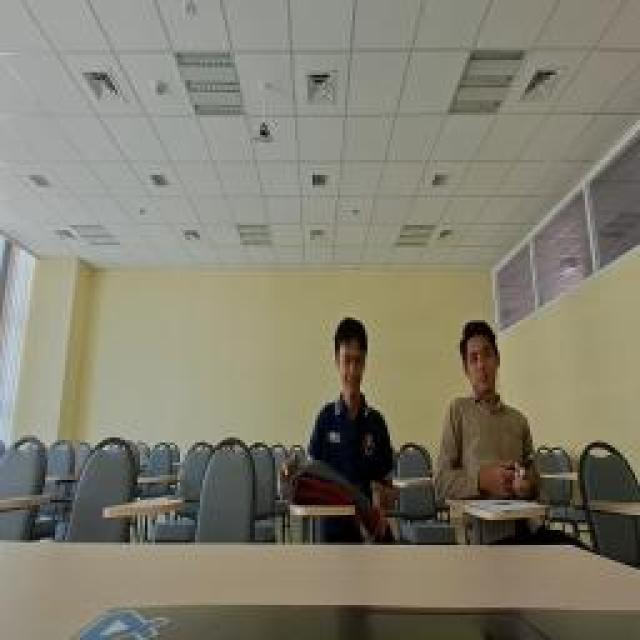study: (432, 315, 542, 500), (300, 312, 398, 510)
